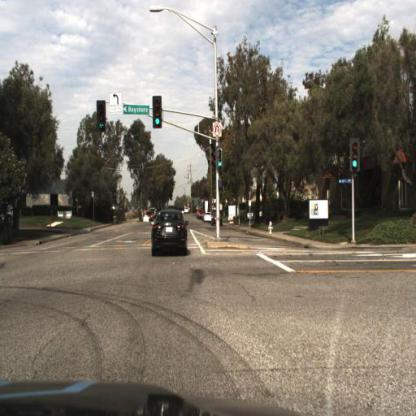car: (152, 206, 190, 261), (210, 209, 224, 229)
trafficLight-Green: (153, 95, 164, 129), (351, 140, 360, 172), (217, 148, 224, 170)
trafficLight-GreenLeft: (97, 99, 109, 131)
